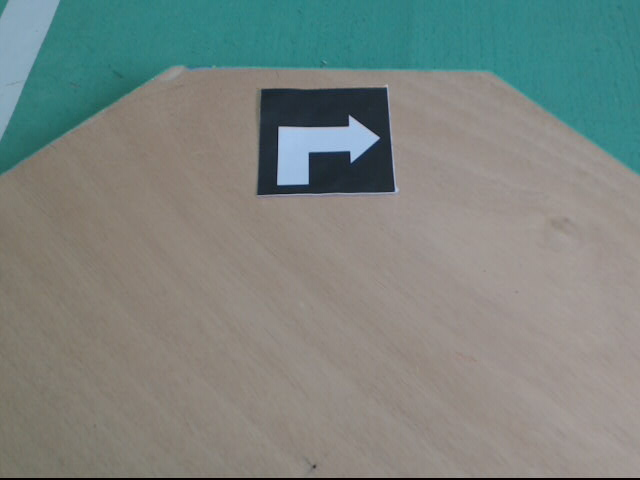right: (258, 86, 398, 196)
